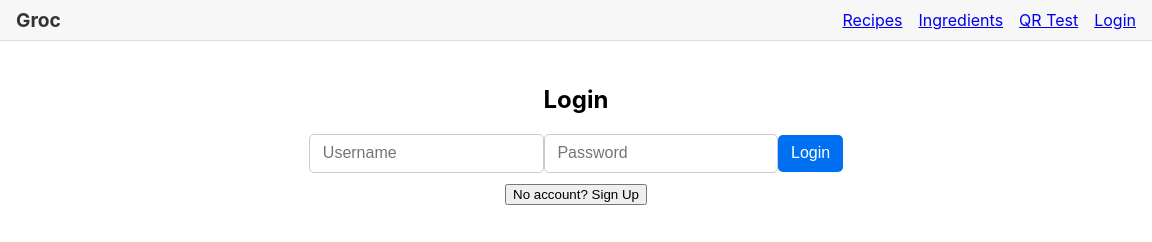
Scenario: login failure shows error
In the field with placeholder "Username": (426, 153) [309, 134, 544, 173], type "bad"
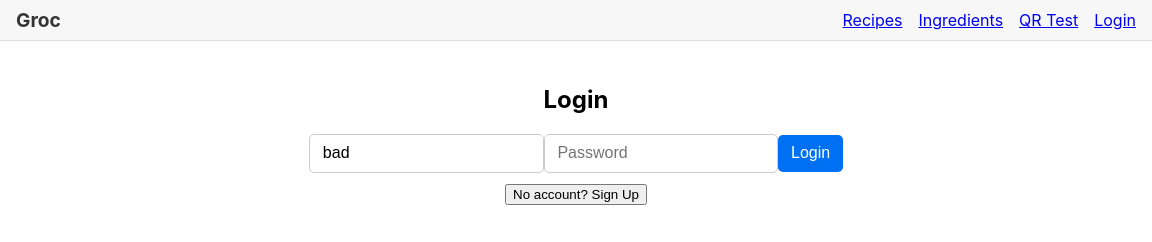
In the password field with placeholder "Password": (661, 153) [544, 134, 778, 173], type "bad"
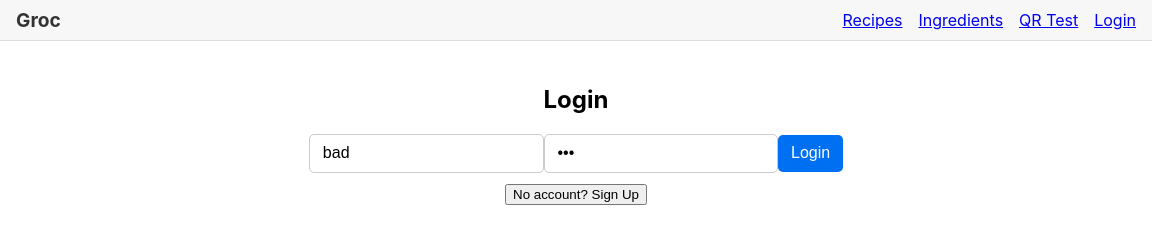
Click the button "Login": (811, 153) [778, 135, 843, 172]
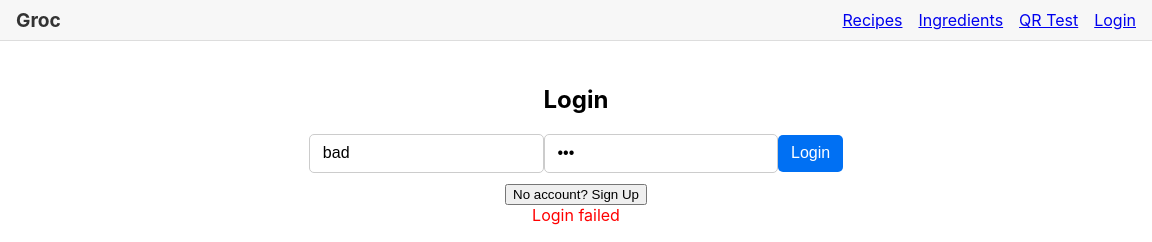
Now the text "Login failed" is shown, box [532, 205, 620, 225]
